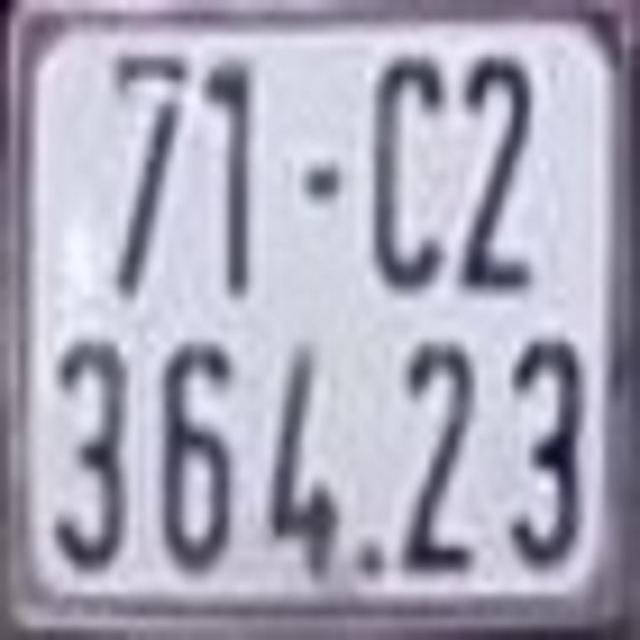1: (194, 48, 268, 298)
2: (398, 316, 478, 578), (459, 49, 538, 297)
3: (506, 323, 584, 576), (52, 327, 126, 572)
4: (264, 331, 341, 583)
6: (156, 324, 234, 574)
7: (100, 45, 191, 292)
C: (367, 48, 449, 295)
